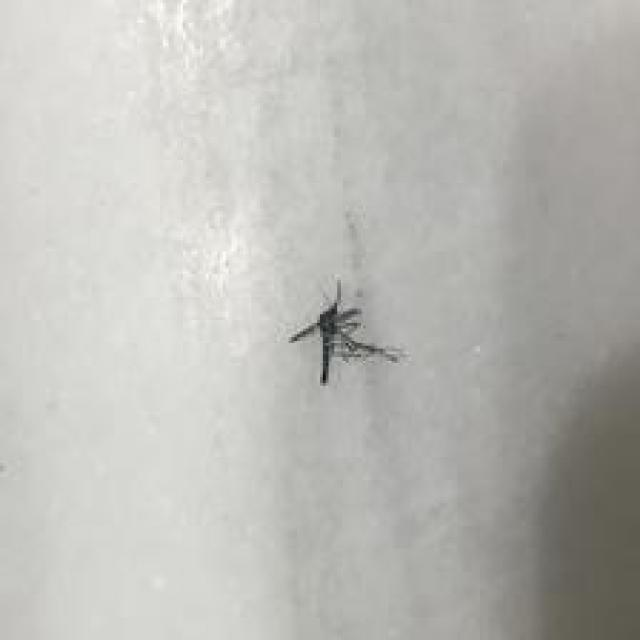Aedes albopictus: (287, 277, 407, 386)
